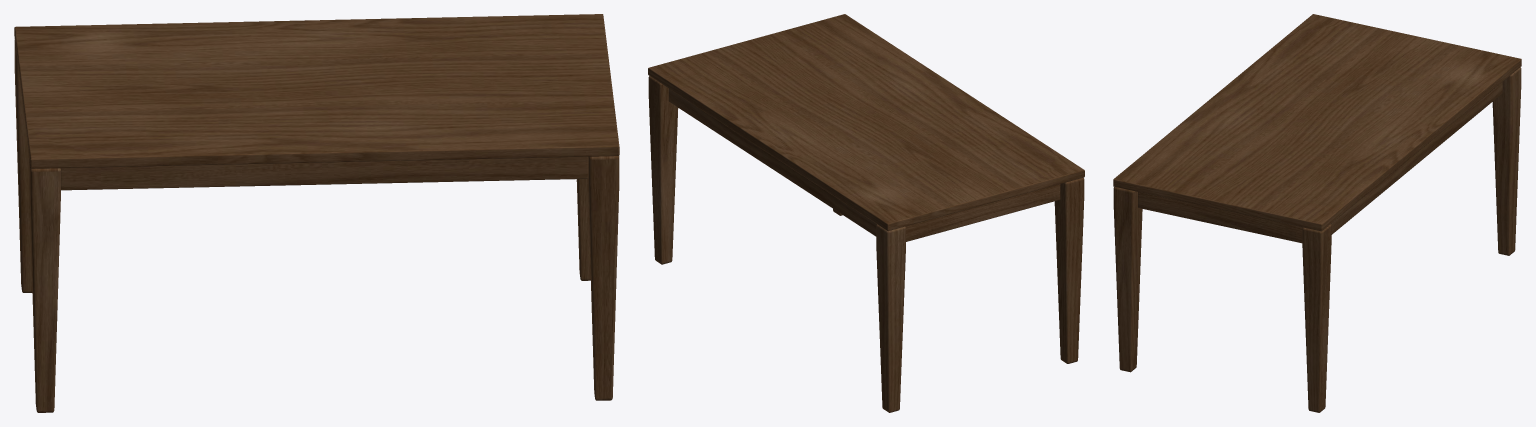
Rendered from teak-t.glb.
The picture shows the model from 3 angles, left to right: view 1: azimuth 30°, elevation 25°; view 2: azimuth 150°, elevation 25°; view 3: azimuth 270°, elevation 25°; orthographic projection. The views are drawn at different scales.
Visible parts, largest first — view 1: table_generator_n3d; view 2: table_generator_n3d; view 3: table_generator_n3d.
Part boxes in pixels (left/top/right/bottom): table_generator_n3d: left=14, top=14, right=619, bottom=412; table_generator_n3d: left=648, top=14, right=1084, bottom=412; table_generator_n3d: left=1113, top=14, right=1521, bottom=412.
Size of the model in its own units: 1.29 by 0.547 by 1.05.
Materials: 1 (1 with a texture image).
